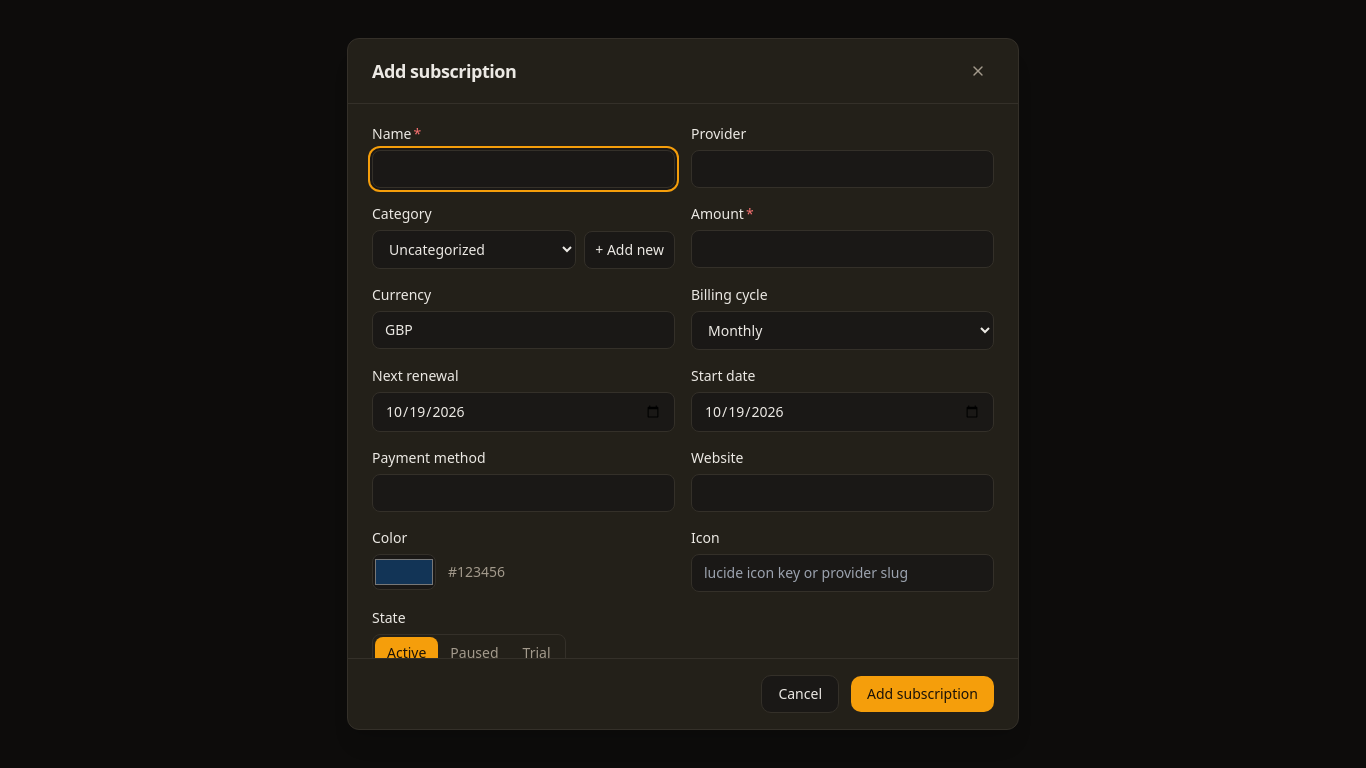
inline validation names the offending field (Req 3.5, 3.6) › rejects a negative amount and shows a message naming the amount field
// Provide a valid name so only the amount fails validation.
In the field labelled "Name*": (524, 169) [372, 150, 675, 188], type "Valid Name"
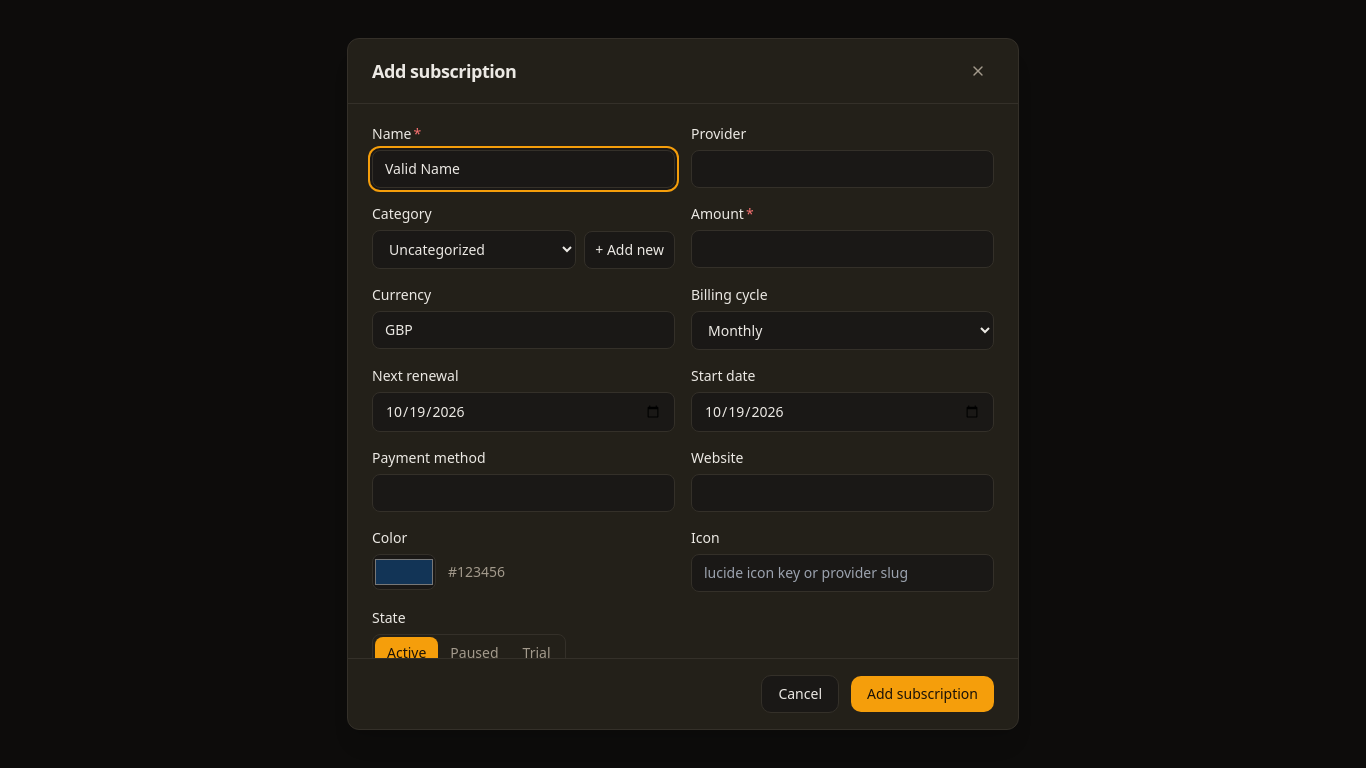
In the number field labelled "Amount*": (842, 249) [691, 230, 994, 268], type "-5"
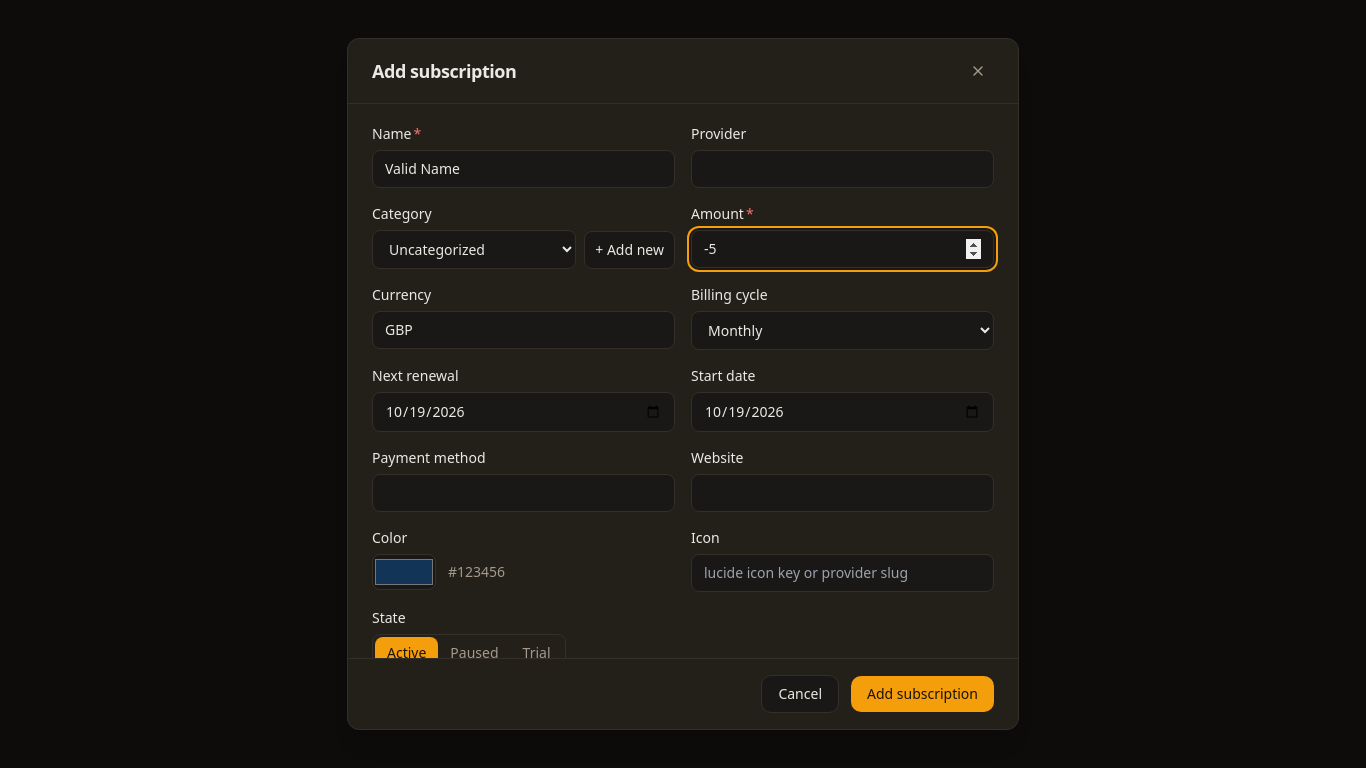
Submit the form named "add subscription", box [348, 104, 1018, 729]
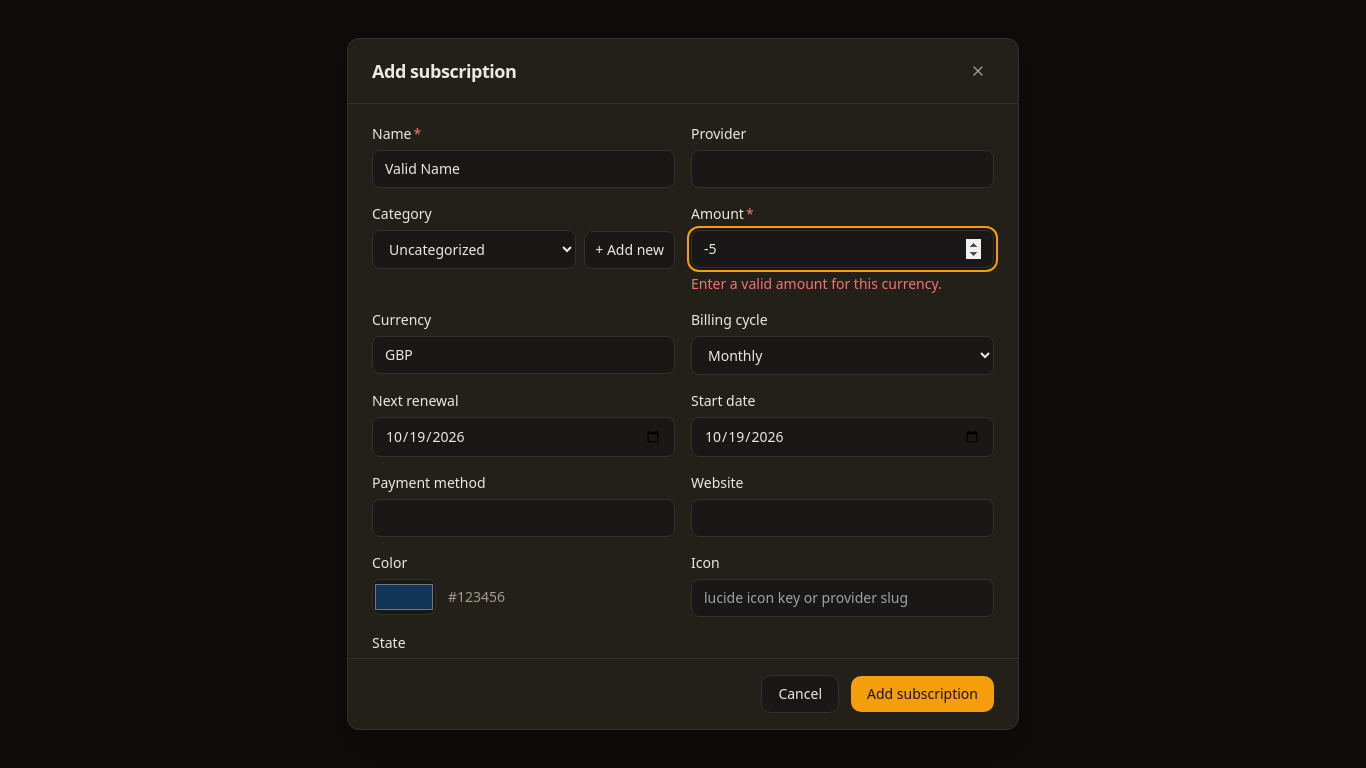
Now the text "Enter a valid amount for this currency." is shown, box [691, 274, 942, 293]
